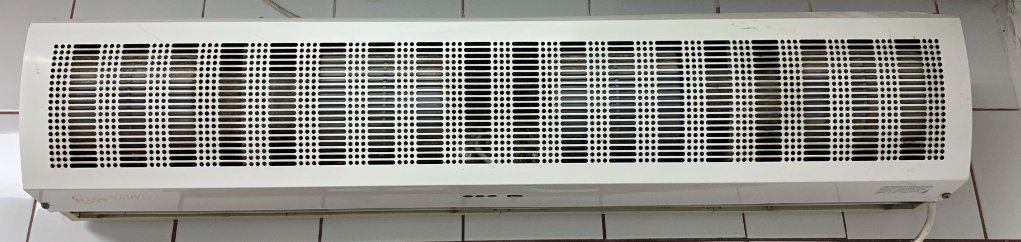Air Curtain: (16, 17, 984, 202)
